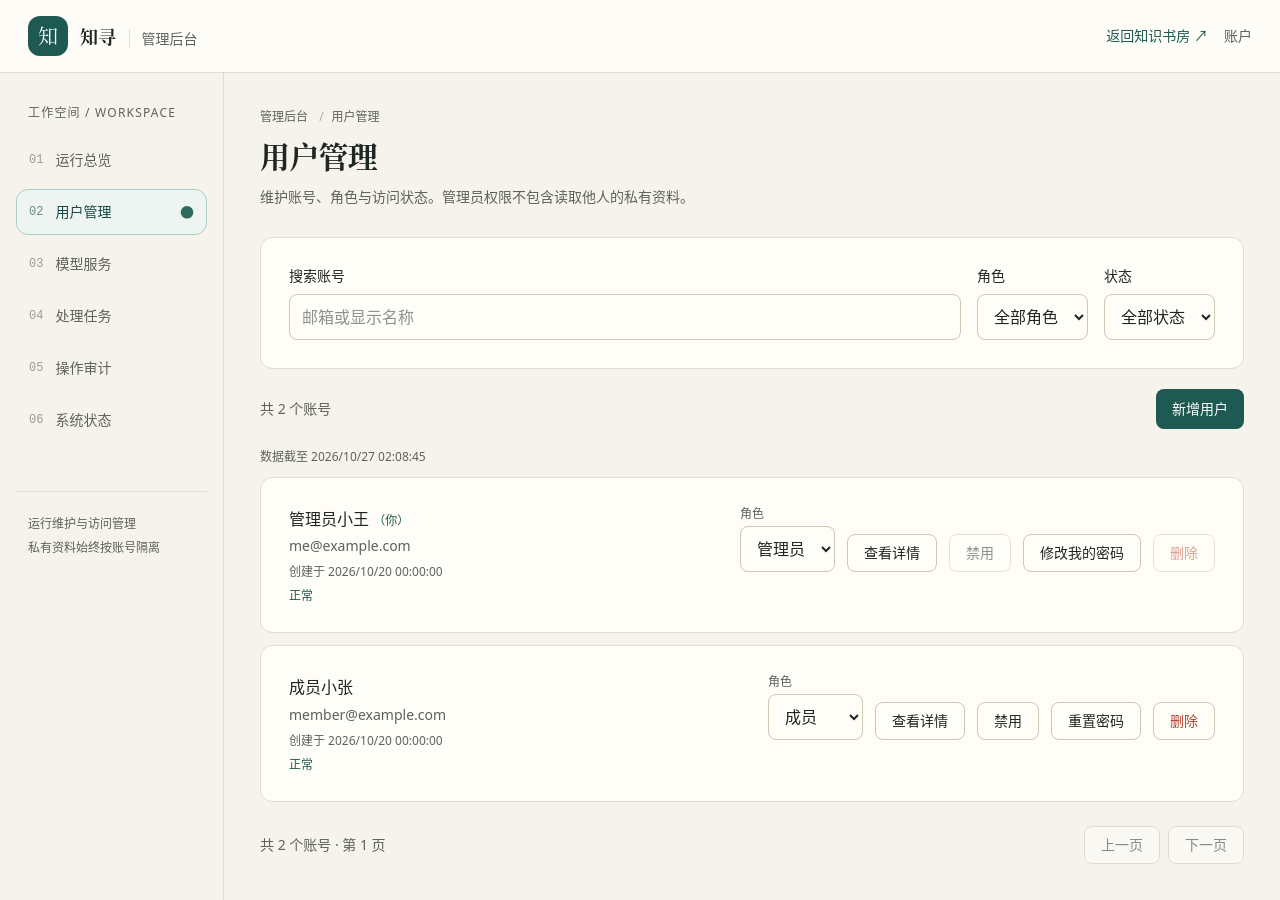
Test: AdminUsersView › last_admin 失败时回滚并显示原因
Expected: the list item with test id "admin-user-row" that starts with "管理员小王" is shown, [260,477,1244,633]
Select "成员" in the dropdown labelled "角色" in the row of "修改我的密码" at point(788, 549), box [740,526,835,572]
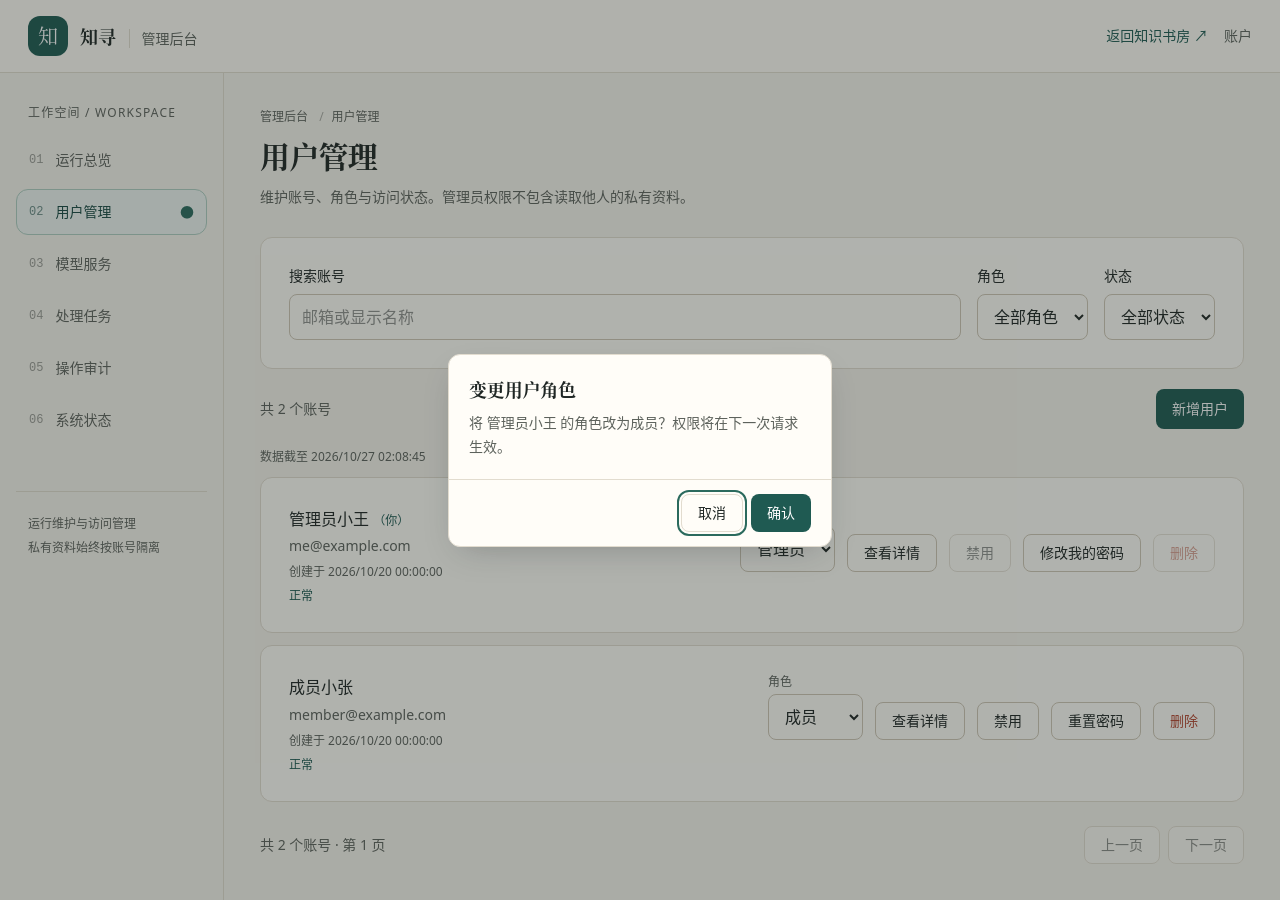
Now the button with test id "confirm-dialog-confirm-btn" is shown
Click the button with test id "confirm-dialog-confirm-btn".
click(781, 512)  # box [751,494,811,532]
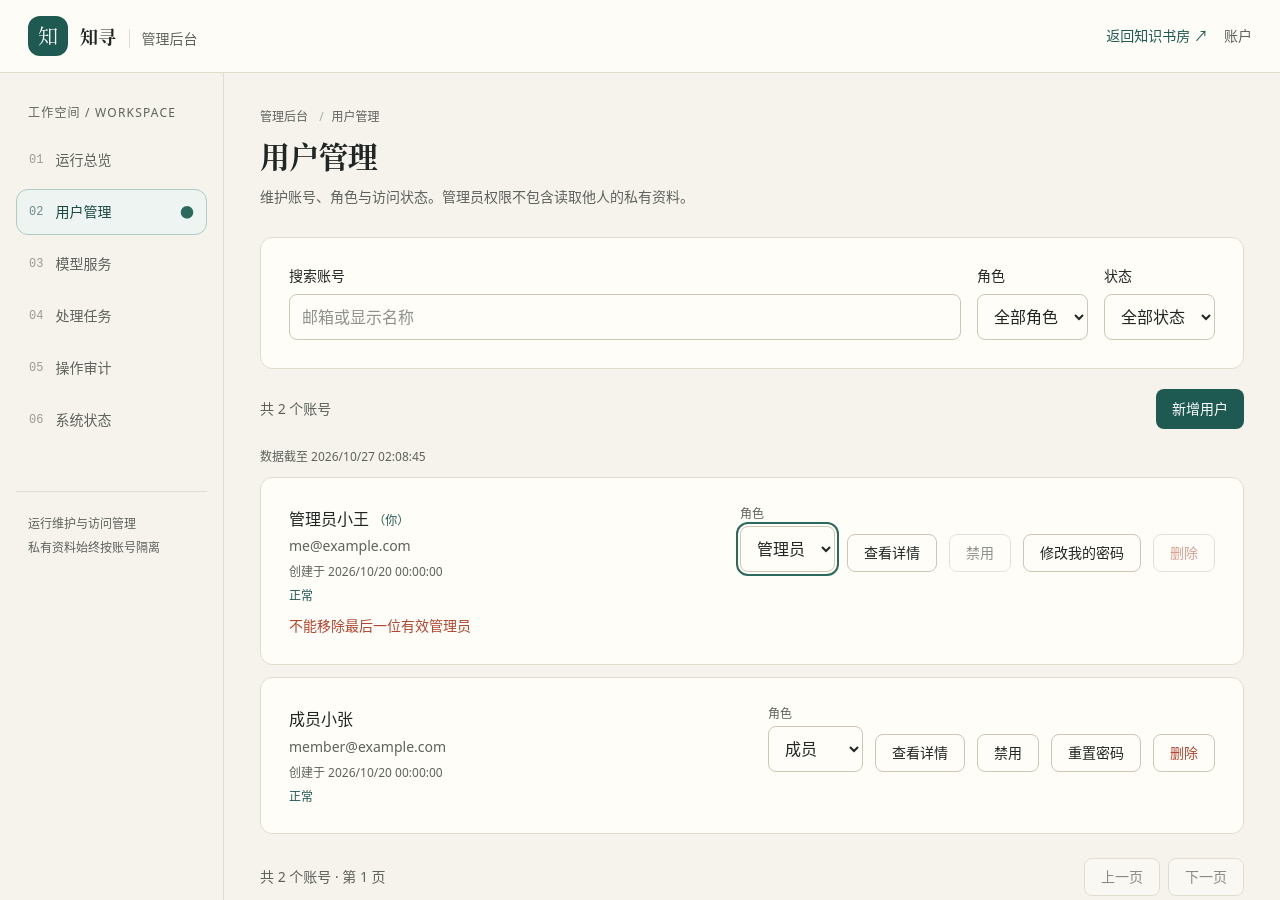
Expected: the list item with test id "admin-user-row" that starts with "管理员小王" is shown, [260,477,1244,665]
Now the message "不能移除最后一位有效管理员" is shown, box [289,616,471,635]
